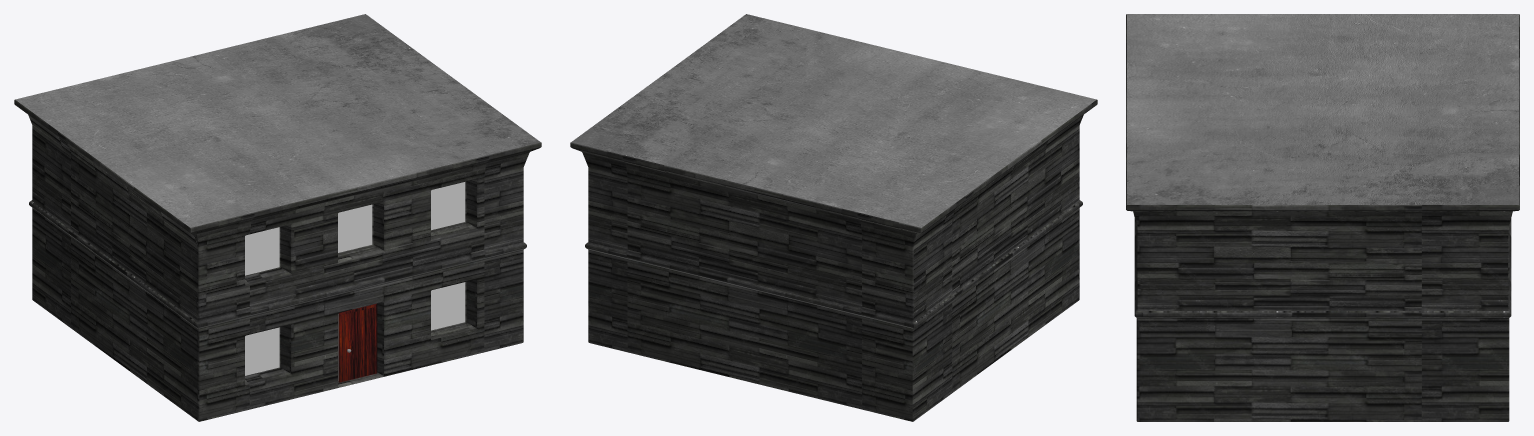
The model's file is OLD_HOUSE_03.fbx.
3 views of the same model, side by side, from view 1: azimuth 30°, elevation 25°; view 2: azimuth 150°, elevation 25°; view 3: azimuth 270°, elevation 25° (orthographic). The views are drawn at different scales.
Parts seen in each view (by area): view 1: OLD_HOUSE_03; view 2: OLD_HOUSE_03; view 3: OLD_HOUSE_03.
Part boxes in pixels (bbox=[...]): OLD_HOUSE_03: bbox=[14, 14, 541, 421]; OLD_HOUSE_03: bbox=[570, 14, 1097, 421]; OLD_HOUSE_03: bbox=[1126, 14, 1519, 421].
Size of the model in its own units: 1237 by 674 by 1073.
